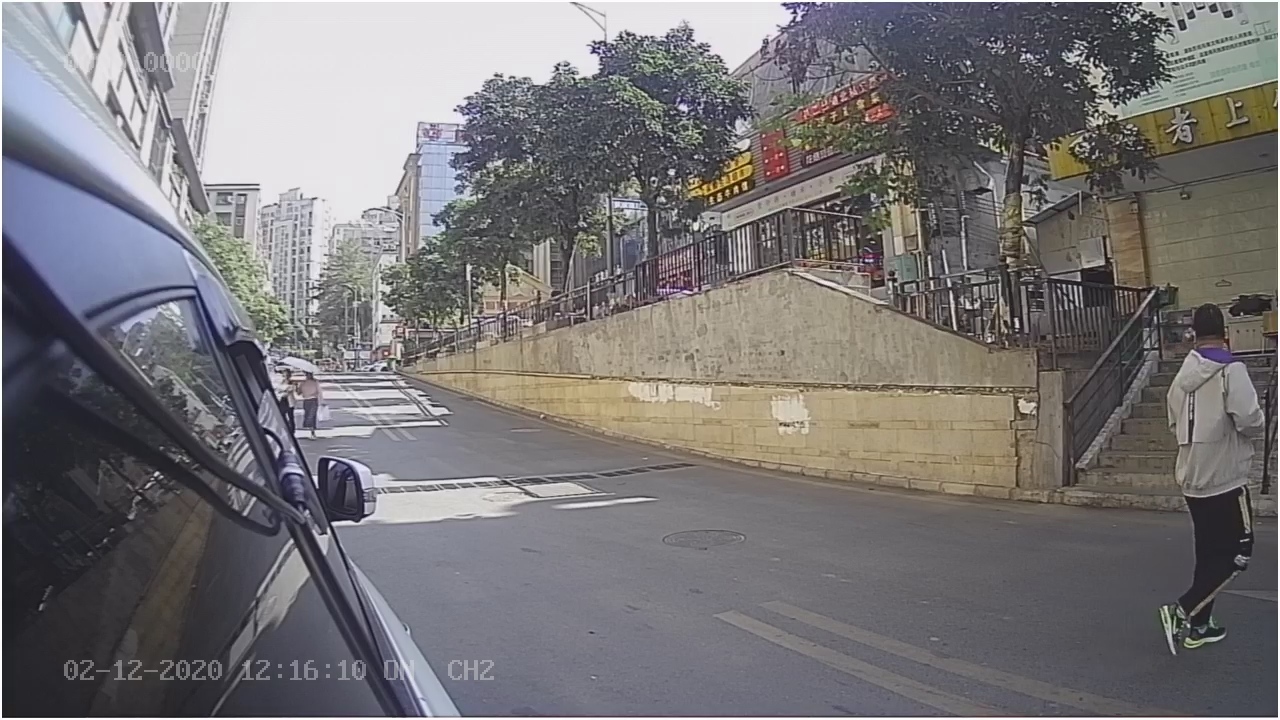person: (1147, 299, 1265, 660)
